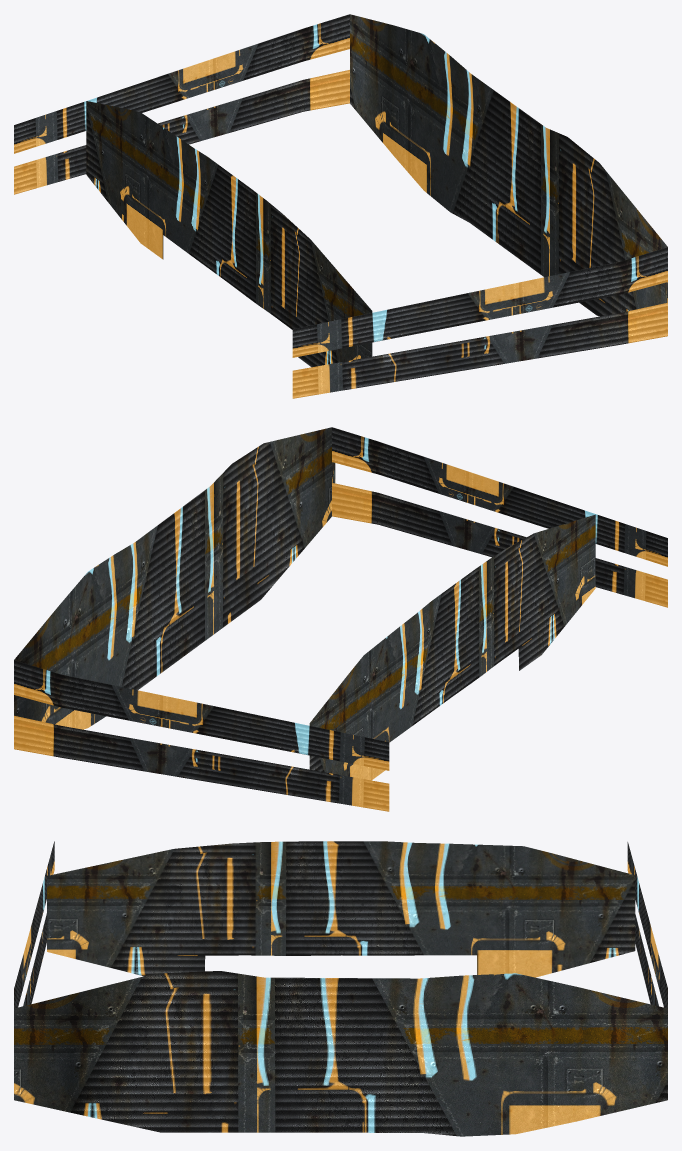
Rendered from SM_BigShip_InteriorCollision.fbx.
3 renders of one model, top to bottom at view 1: azimuth 30°, elevation 25°; view 2: azimuth 150°, elevation 25°; view 3: azimuth 270°, elevation 25°, orthographic. The views are drawn at different scales.
Visible parts, largest first — view 1: SM_BigShip_InteriorCollision_LOD0; view 2: SM_BigShip_InteriorCollision_LOD0; view 3: SM_BigShip_InteriorCollision_LOD0.
Boxes of the visible parts, x1=… form: SM_BigShip_InteriorCollision_LOD0: x1=14, y1=14, x2=667, y2=398; SM_BigShip_InteriorCollision_LOD0: x1=14, y1=427, x2=667, y2=811; SM_BigShip_InteriorCollision_LOD0: x1=14, y1=841, x2=667, y2=1136.
Size of the model in its own units: 4937 by 2141 by 7652.
1 material, 1 textured.
